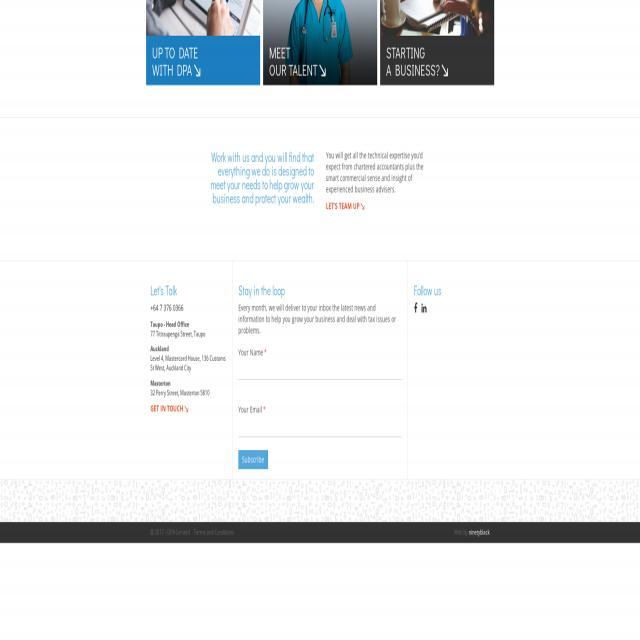button: (146, 0, 260, 86), (263, 0, 377, 86), (380, 0, 494, 86), (238, 450, 268, 470), (413, 302, 417, 314), (422, 302, 426, 314)
field: (238, 362, 402, 381), (238, 418, 402, 437)
